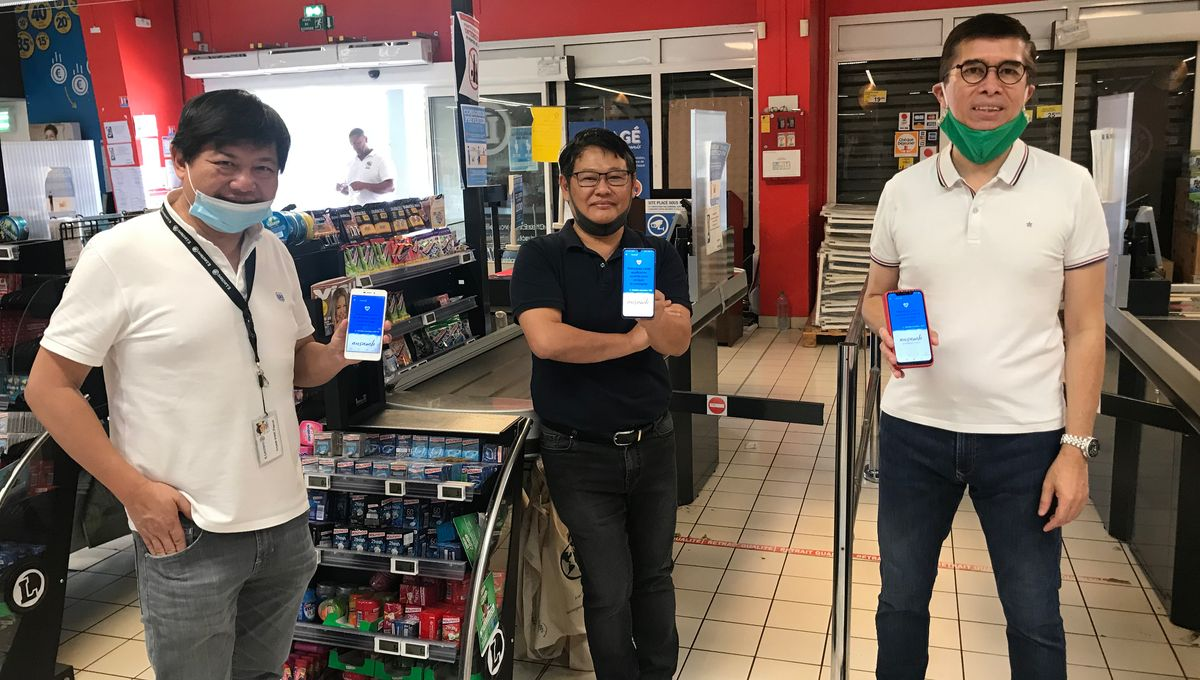with_incorrect_mask: (166, 113, 282, 238), (936, 36, 1037, 166), (556, 151, 636, 242)
